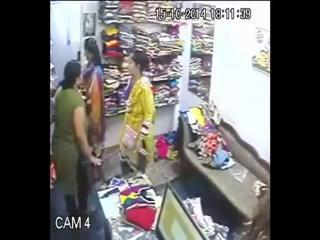Normal: (51, 60, 104, 224), (119, 50, 156, 176), (80, 36, 106, 148)
